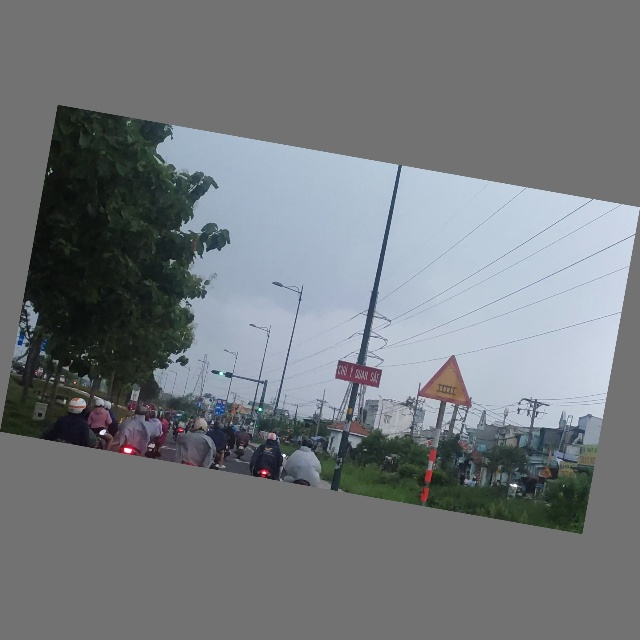W.210: (417, 350, 481, 409)
